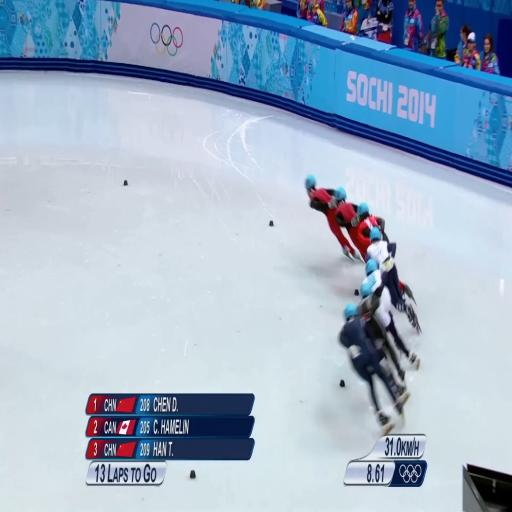Skater: (339, 304, 409, 435), (361, 259, 419, 369), (366, 228, 420, 333), (358, 286, 406, 394), (305, 175, 360, 259), (337, 203, 389, 261), (336, 203, 383, 259), (334, 188, 363, 261)
